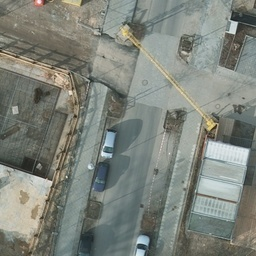car: (99, 128, 118, 157), (92, 160, 109, 190), (133, 234, 150, 255)
